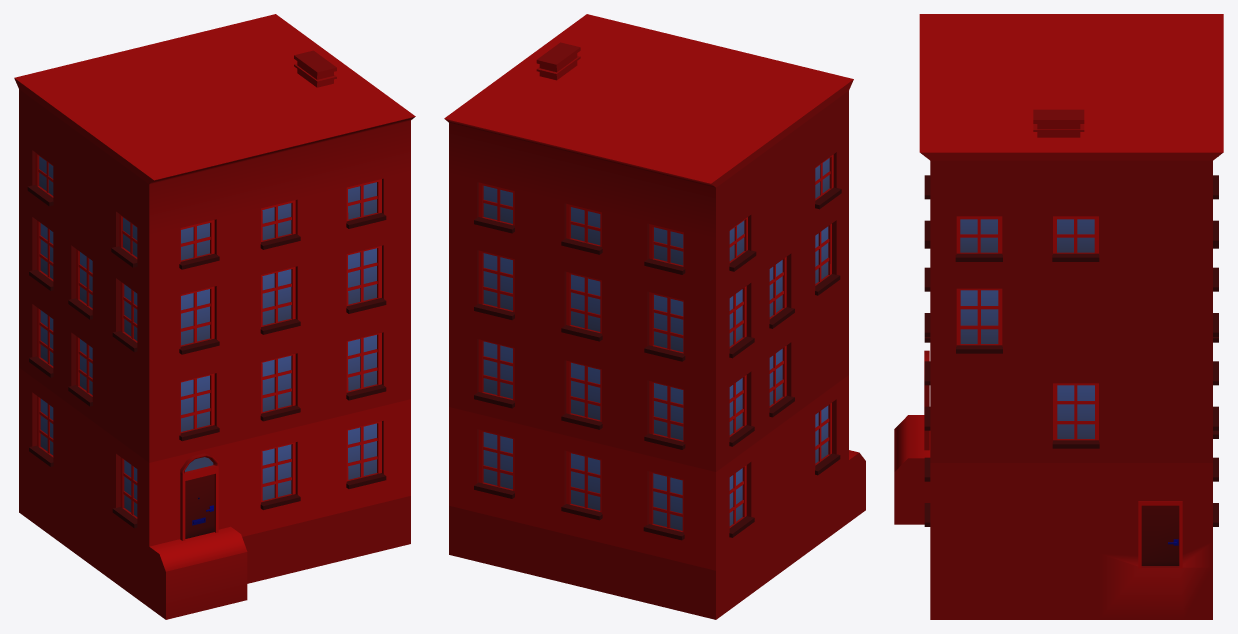
The model's file is buildings-residential-georgianhome_v2.fbx.
3 renders of one model, left to right at view 1: azimuth 30°, elevation 25°; view 2: azimuth 150°, elevation 25°; view 3: azimuth 270°, elevation 25°, orthographic. The views are drawn at different scales.
Parts seen in each view (by area): view 1: GeorgianHome_v2_base, GeorgianHome_v2_windowRefl; view 2: GeorgianHome_v2_base, GeorgianHome_v2_windowRefl; view 3: GeorgianHome_v2_base, GeorgianHome_v2_windowRefl.
Part boxes in pixels (bbox=[...]): GeorgianHome_v2_base: bbox=[14, 14, 415, 619]; GeorgianHome_v2_windowRefl: bbox=[39, 156, 376, 516]; GeorgianHome_v2_base: bbox=[444, 14, 865, 619]; GeorgianHome_v2_windowRefl: bbox=[483, 158, 829, 530]; GeorgianHome_v2_base: bbox=[894, 14, 1223, 619]; GeorgianHome_v2_windowRefl: bbox=[960, 219, 1094, 438].
Bounding box in the file's own units: 11.2 × 17.64 × 10.83.
